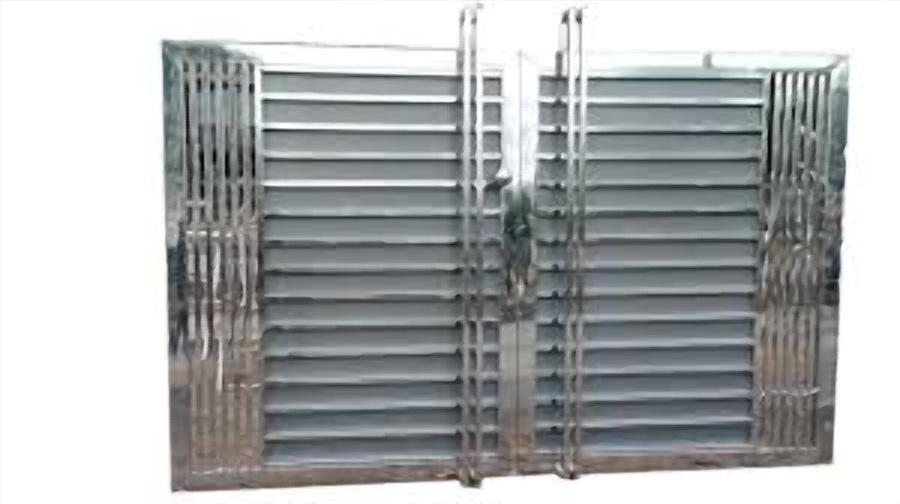Gate: (158, 0, 851, 494)
